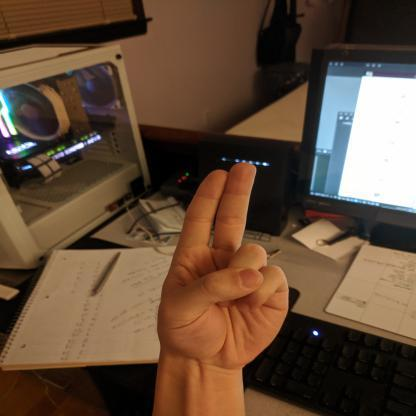U: (153, 160, 293, 371)
